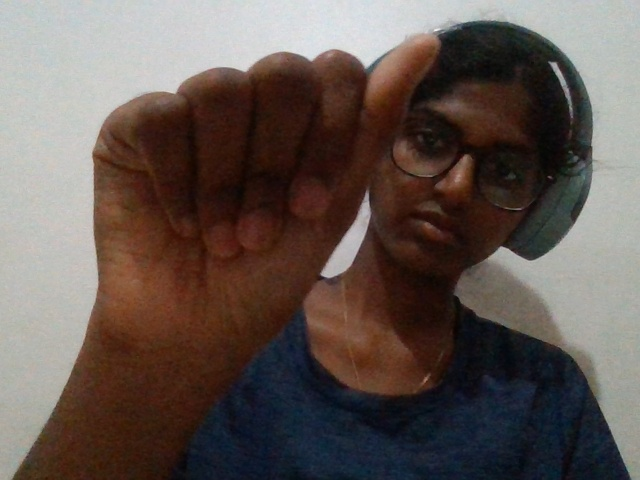A: (57, 22, 443, 446)
